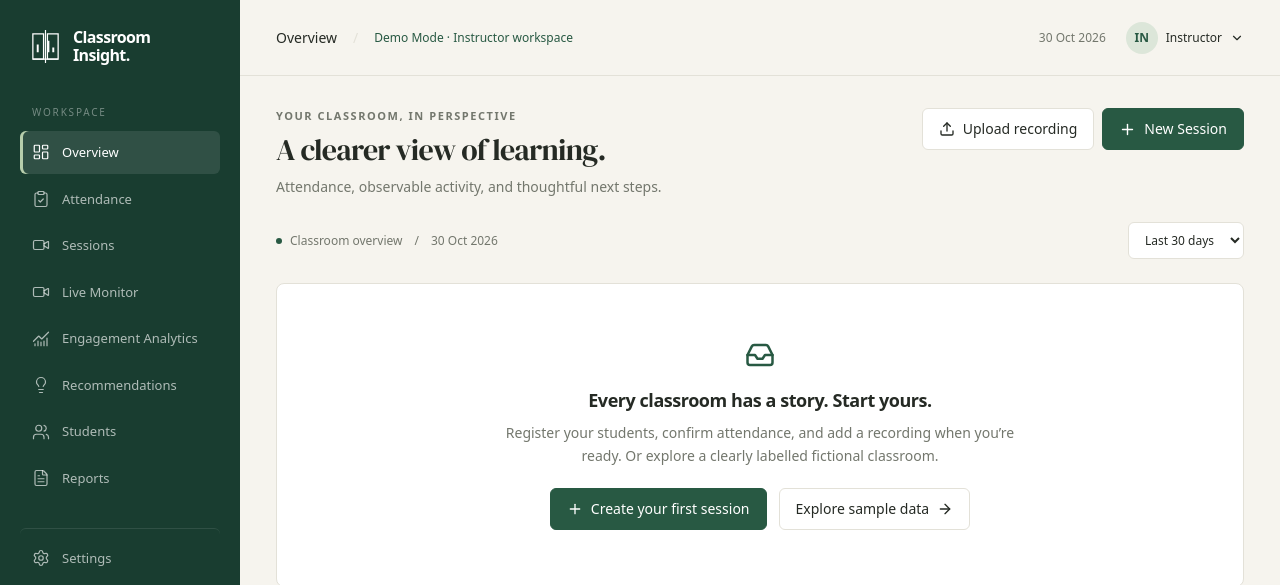
Test: navigation opens Settings
Expected: the heading "A clearer view of learning." is shown, [276,132,662,168]
Step 1. Click the link "Settings" → (120, 553), box [20,528,220,579]
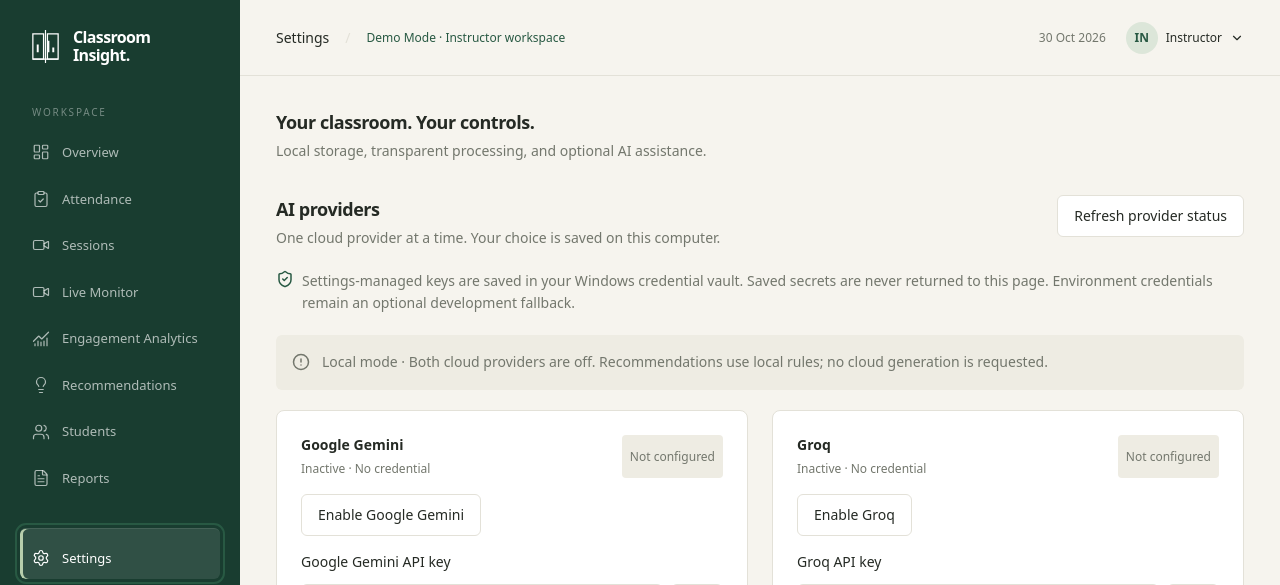
Expected: the heading "Your classroom. Your controls." is shown, [276,110,534,134]
Expected: the text "Local mode · Both cloud providers are off" is shown, [322,352,1048,371]
